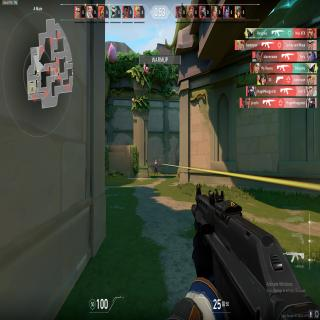ENEMY-BODY: (154, 158, 158, 176)
ENEMY-HEAD: (155, 159, 157, 163)
